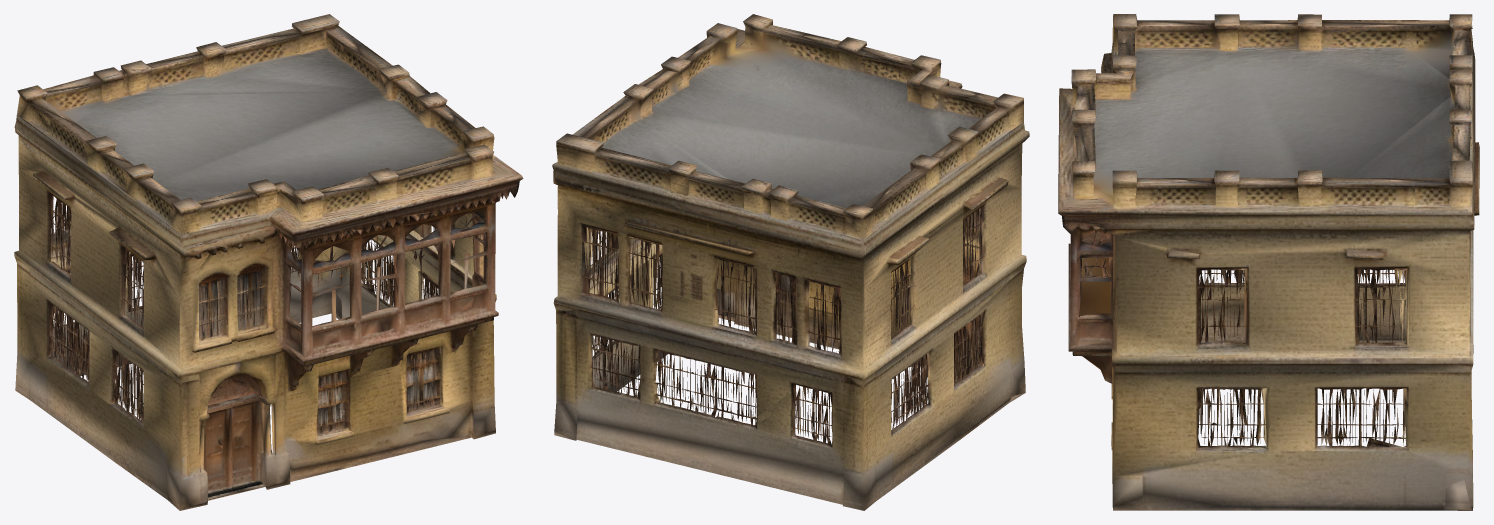
The model's file is bld_shanasheel.glb.
3 renders of one model, left to right at view 1: azimuth 30°, elevation 25°; view 2: azimuth 150°, elevation 25°; view 3: azimuth 270°, elevation 25°, orthographic. The views are drawn at different scales.
Parts seen in each view (by area): view 1: geometry_0; view 2: geometry_0; view 3: geometry_0.
Boxes of the visible parts, bbox=[...] form: geometry_0: bbox=[14, 14, 523, 510]; geometry_0: bbox=[552, 14, 1029, 510]; geometry_0: bbox=[1058, 14, 1479, 510].
Size of the model in its own units: 0.7484 by 0.6447 by 0.7473.
Materials: 1 (1 with a texture image).
